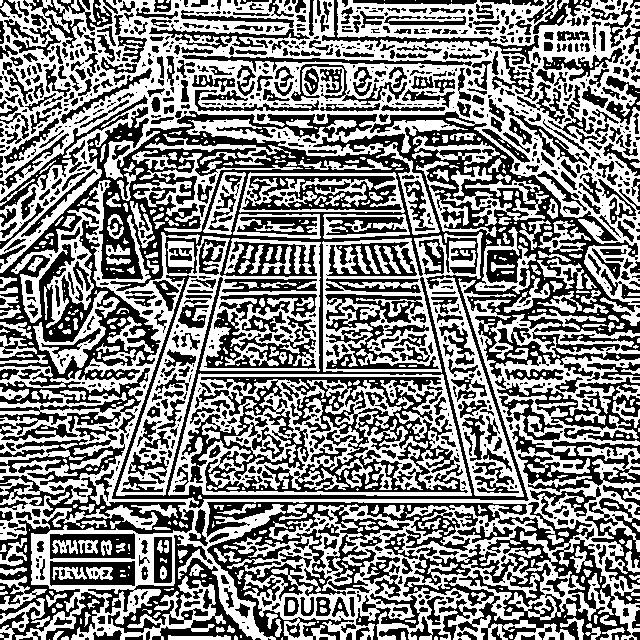left side: (112, 172, 248, 498), (397, 172, 527, 500)
player: (186, 436, 218, 548), (399, 128, 420, 180)
